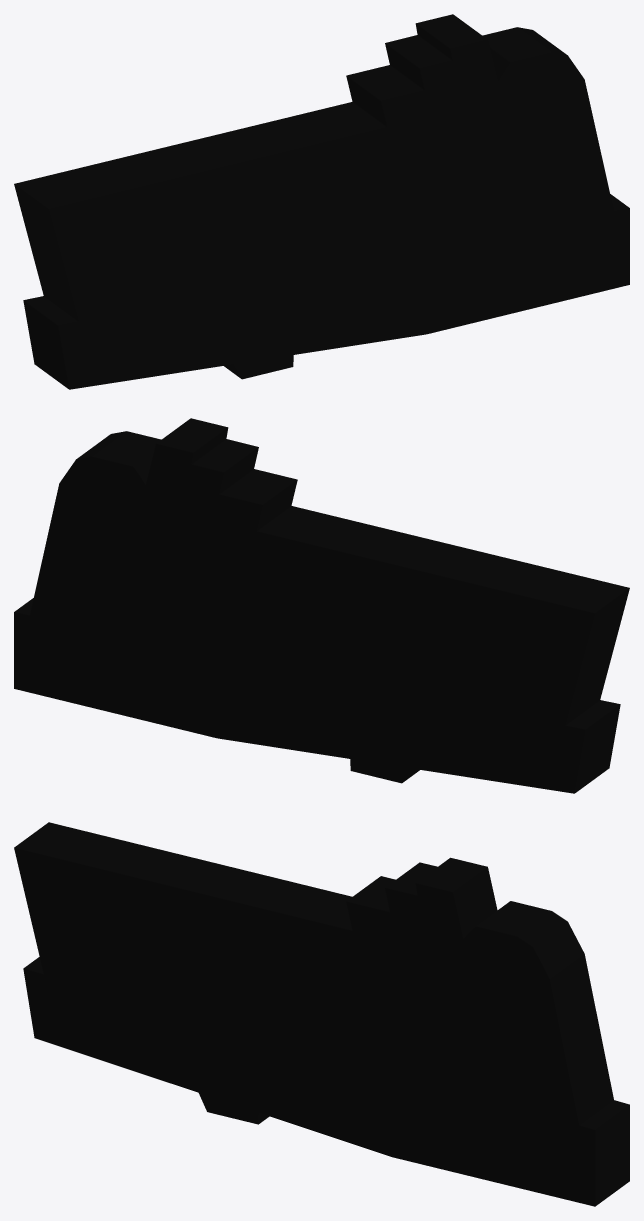
File: ps2_save-icons_getaway-black-monday.glb
3 renders of one model, top to bottom at view 1: azimuth 30°, elevation 25°; view 2: azimuth 150°, elevation 25°; view 3: azimuth 330°, elevation 25°, orthographic.
Visible parts, largest first — view 1: TGBM.ico; view 2: TGBM.ico; view 3: TGBM.ico.
Boxes of the visible parts, bbox=[...] form: TGBM.ico: bbox=[14, 14, 629, 389]; TGBM.ico: bbox=[14, 418, 629, 793]; TGBM.ico: bbox=[14, 822, 629, 1206].
Size of the model in its own units: 4.92 by 2.26 by 0.5103.
Materials: 1 (1 with a texture image).
